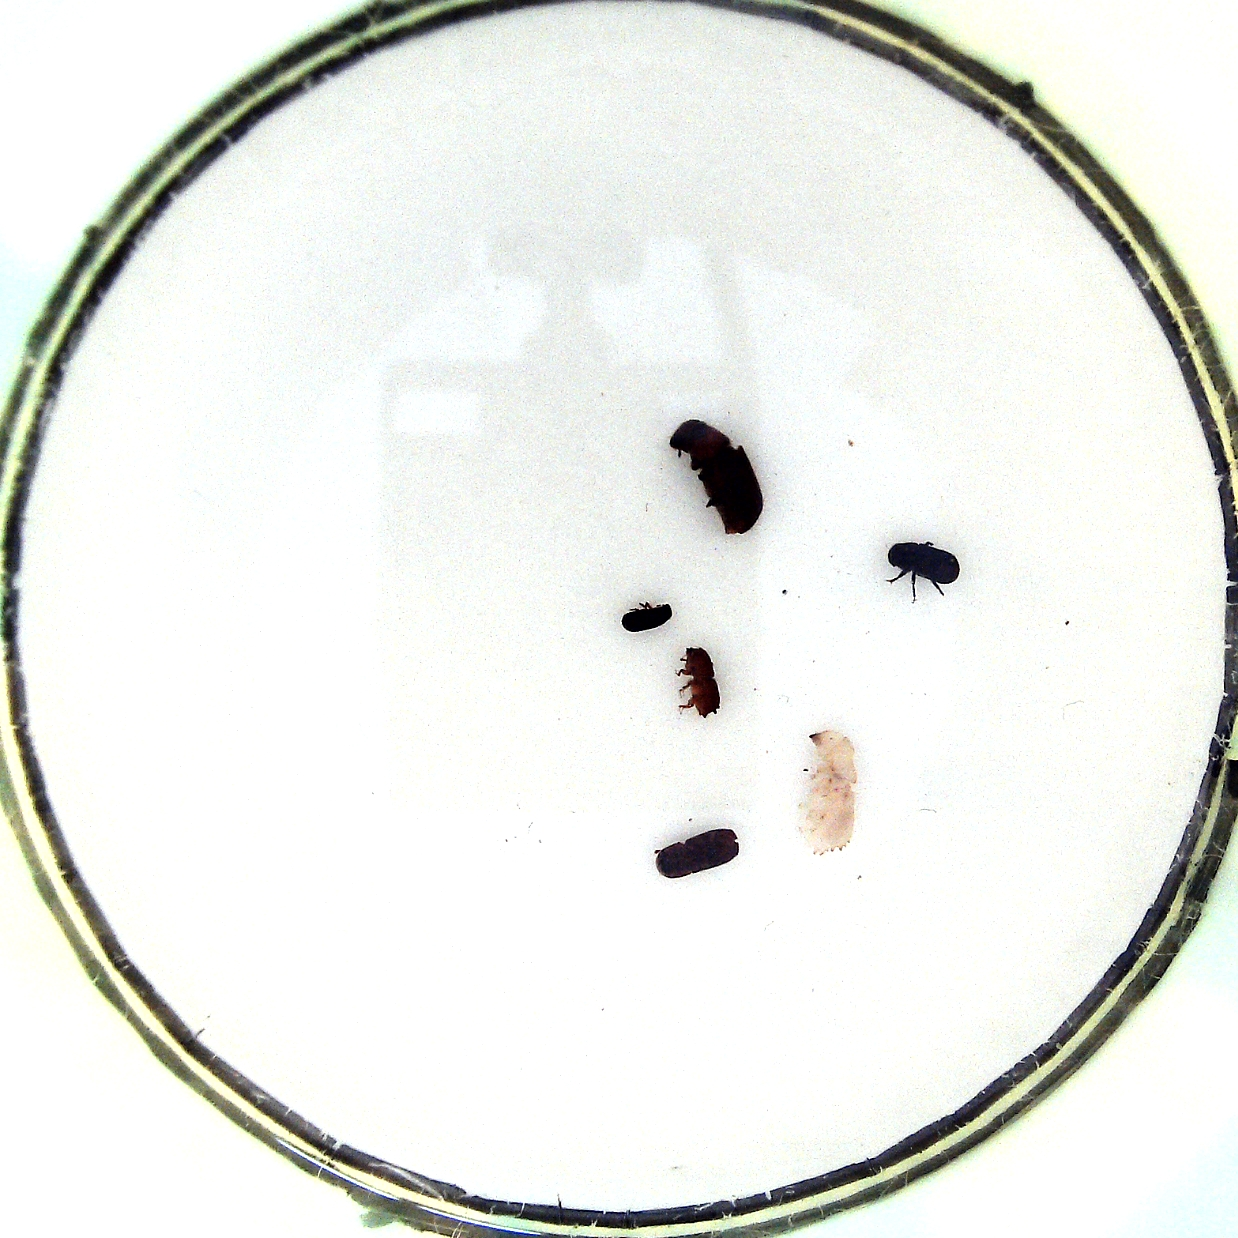Boerner: (802, 732, 870, 853)
Leconte: (659, 415, 766, 534)
Linnaeus: (651, 822, 746, 879)
acuminatus: (668, 643, 727, 724)
armandi: (881, 537, 959, 601)
coleoptera: (618, 593, 675, 641)
